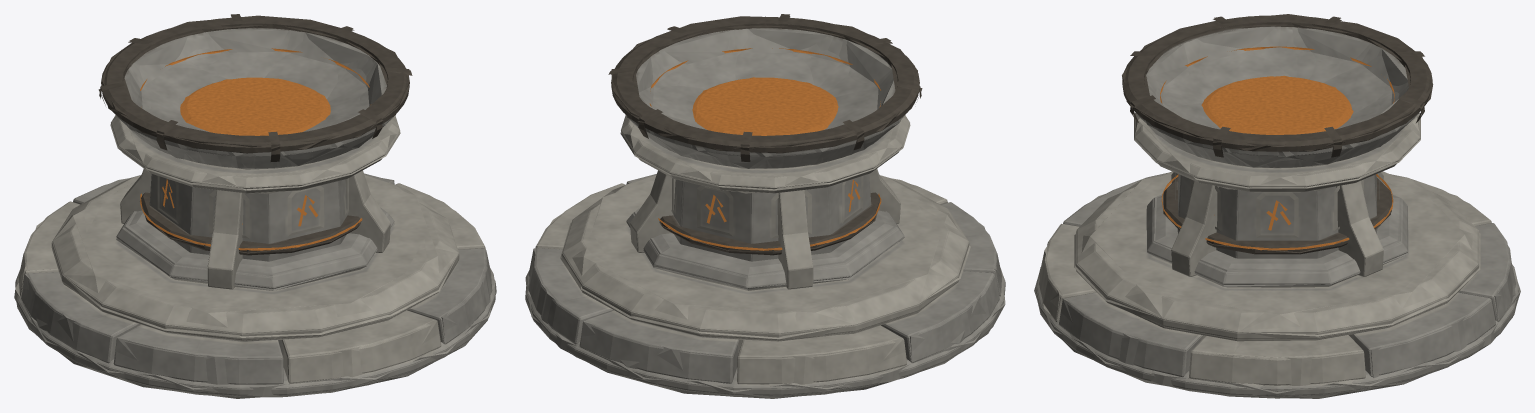
The model's file is ember-shrine-fallback.glb.
3 views of the same model, side by side, from view 1: azimuth 30°, elevation 25°; view 2: azimuth 150°, elevation 25°; view 3: azimuth 270°, elevation 25° (orthographic).
Visible parts, largest first — view 1: EmberShrine_LOD0_body, EmberShrine_LOD2_body, EmberShrine_LOD1_body, EmberShrine_LOD2_ember, EmberShrine_LOD0_ember, EmberShrine_LOD1_ember; view 2: EmberShrine_LOD0_body, EmberShrine_LOD2_body, EmberShrine_LOD1_body, EmberShrine_LOD2_ember, EmberShrine_LOD0_ember, EmberShrine_LOD1_ember; view 3: EmberShrine_LOD0_body, EmberShrine_LOD2_body, EmberShrine_LOD1_body, EmberShrine_LOD2_ember, EmberShrine_LOD0_ember, EmberShrine_LOD1_ember.
Part boxes in pixels (bbox=[...]): EmberShrine_LOD0_body: bbox=[15, 16, 495, 397]; EmberShrine_LOD2_body: bbox=[14, 15, 496, 398]; EmberShrine_LOD1_body: bbox=[15, 14, 495, 397]; EmberShrine_LOD2_ember: bbox=[140, 48, 369, 250]; EmberShrine_LOD0_ember: bbox=[140, 48, 369, 250]; EmberShrine_LOD1_ember: bbox=[180, 78, 330, 135]; EmberShrine_LOD0_body: bbox=[525, 14, 1005, 396]; EmberShrine_LOD2_body: bbox=[525, 16, 1005, 398]; EmberShrine_LOD1_body: bbox=[525, 17, 1005, 395]; EmberShrine_LOD2_ember: bbox=[649, 48, 881, 250]; EmberShrine_LOD0_ember: bbox=[650, 48, 880, 250]; EmberShrine_LOD1_ember: bbox=[693, 77, 837, 135]; EmberShrine_LOD0_body: bbox=[1035, 15, 1519, 398]; EmberShrine_LOD2_body: bbox=[1034, 14, 1520, 398]; EmberShrine_LOD1_body: bbox=[1036, 16, 1518, 397]; EmberShrine_LOD2_ember: bbox=[1160, 46, 1394, 250]; EmberShrine_LOD0_ember: bbox=[1160, 46, 1394, 250]; EmberShrine_LOD1_ember: bbox=[1204, 76, 1351, 134].
Size of the model in its own units: 3.46 by 1.78 by 3.46.
Materials: 2 (2 with a texture image).
